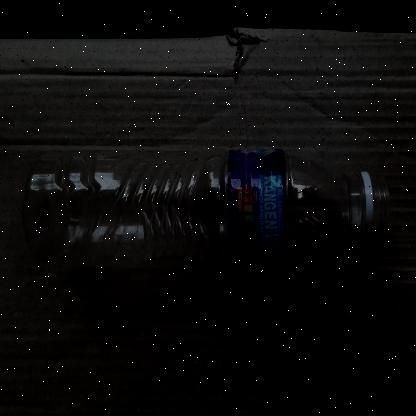Plastic Bottle: (22, 145, 392, 265)
